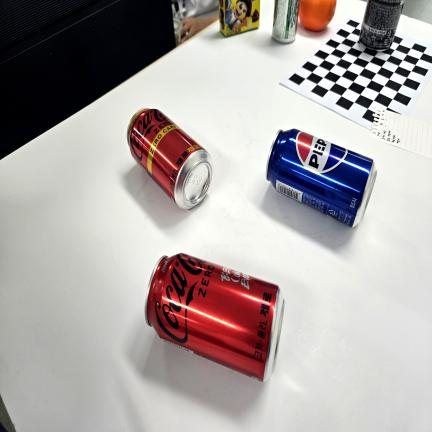can_coke_decaf: (127, 108, 212, 209)
can_coke_zero: (145, 253, 284, 381)
can_pepsi: (266, 129, 376, 227)
